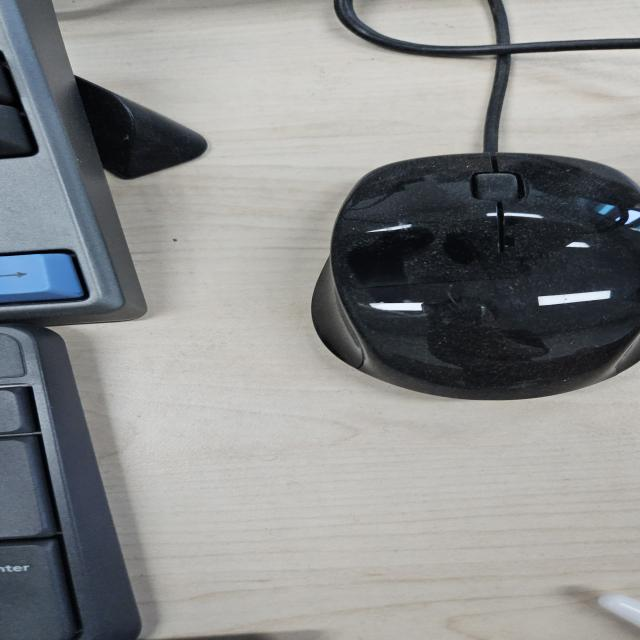Mouse: (308, 150, 637, 401)
